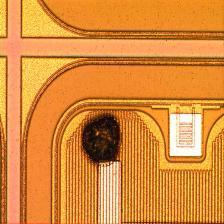PARTICLE: (76, 112, 132, 168)
